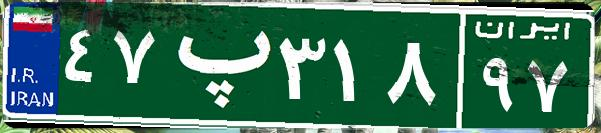1: (330, 28, 385, 110)
3: (273, 28, 330, 110)
4: (57, 26, 110, 107)
7: (110, 28, 158, 105), (525, 38, 570, 115)
8: (385, 28, 445, 110)
9: (475, 38, 525, 113)
پ: (158, 15, 273, 115)
